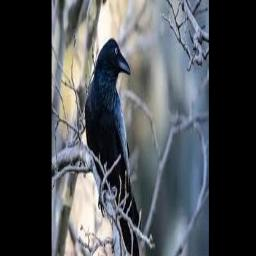Crow: (85, 38, 141, 256)
